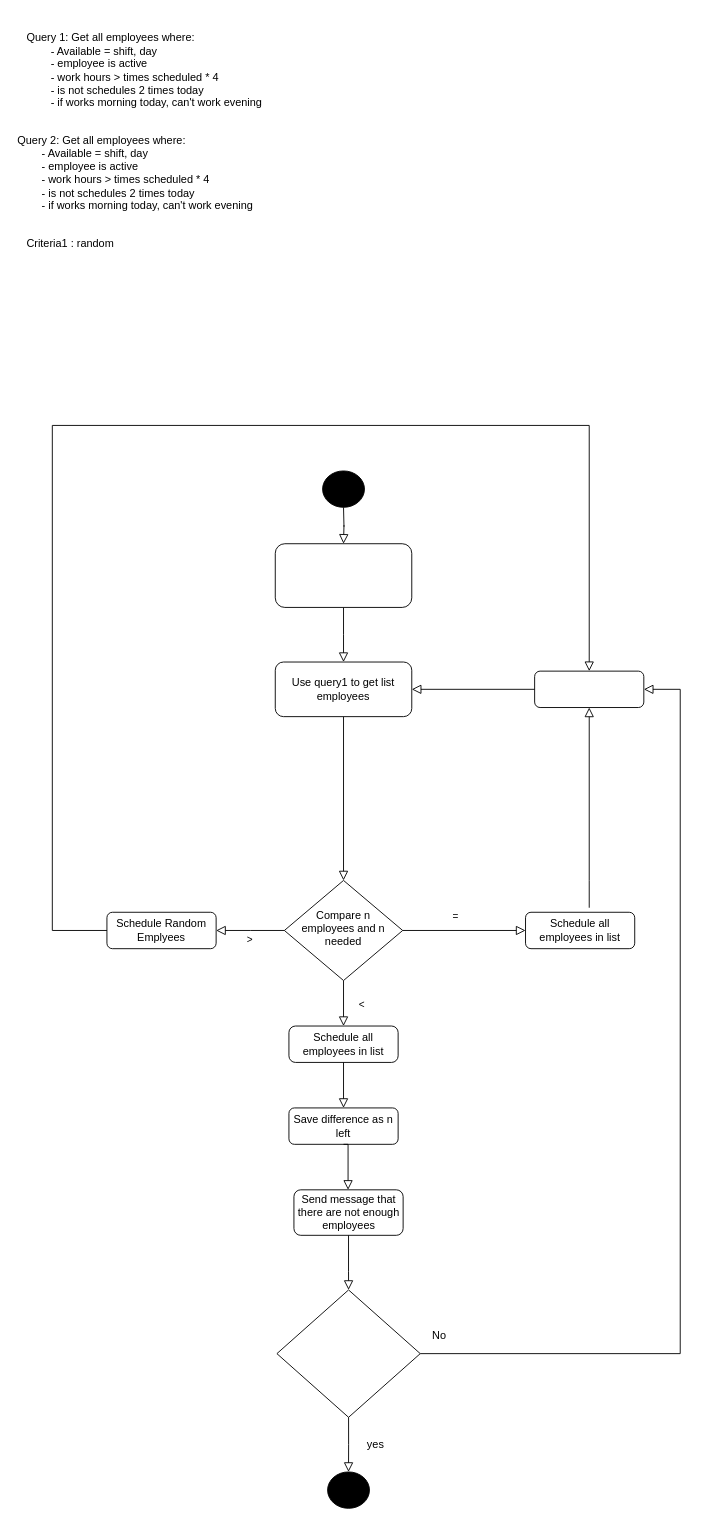
Some shapes in this 705 by 1524 pixel diagram are drawn without their labels. The shapes that lost their labels are listed below. From the top down, each one's centre as x and y in pixels, then its label:
pixel 343 575: take first shift of the first day of the week
pixel 589 689: Next cell
pixel 348 1353: If day = Sunday and shift = evening
